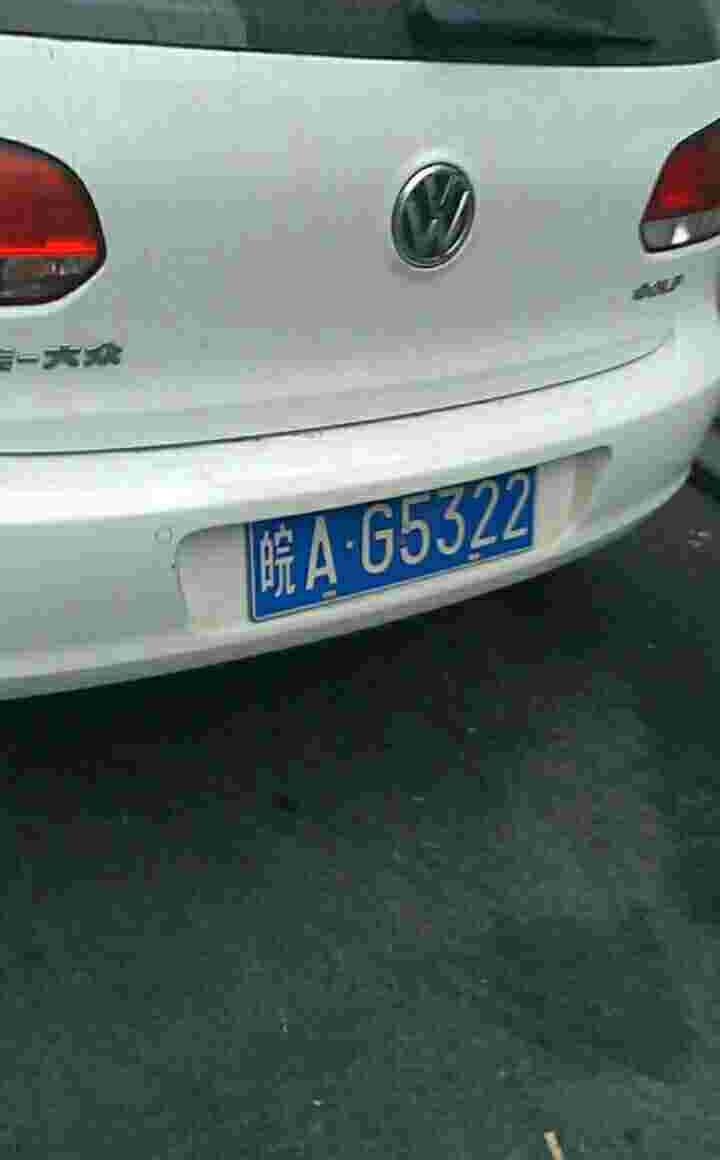license_plate: (242, 459, 546, 616)
